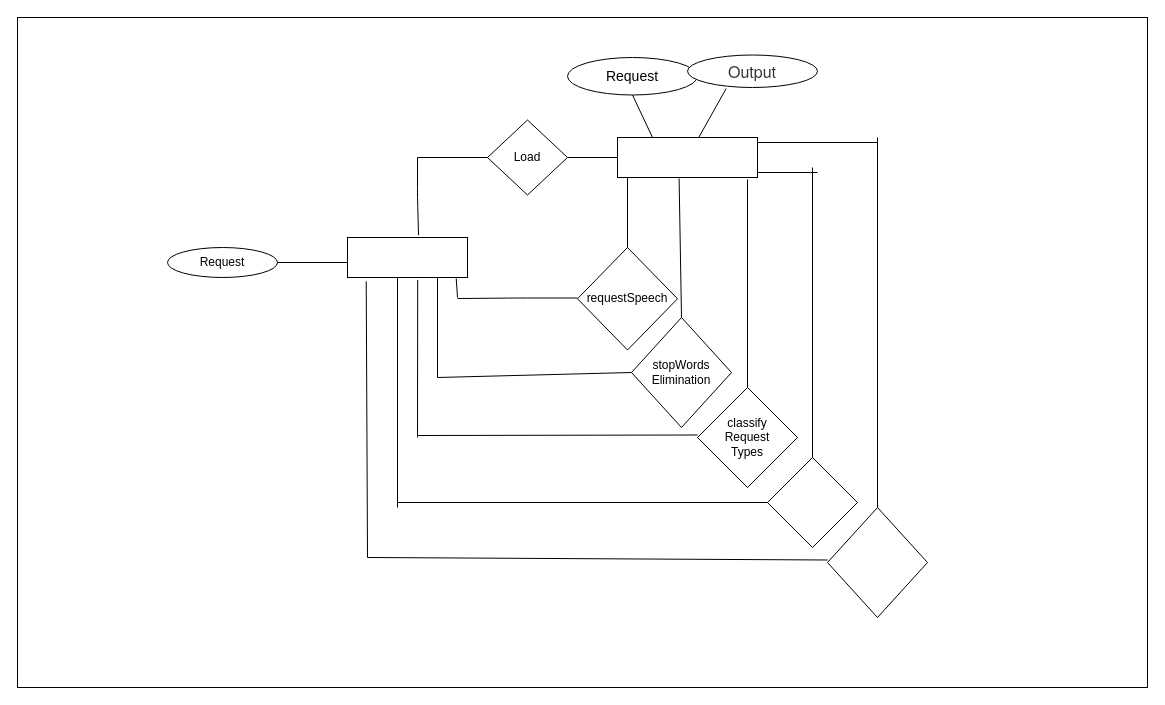
Some shapes in this 1165 by 705 pixel diagram are drawn without their labels. The shapes that lost their labels are listed below. From the top down, each one's box as (x1, y1, x2, y2) in pixels, then its label:
(616, 136, 758, 178): Department
(346, 236, 468, 278): Customer
(766, 456, 858, 548): finalOutput
(826, 506, 928, 618): send Request To Department
